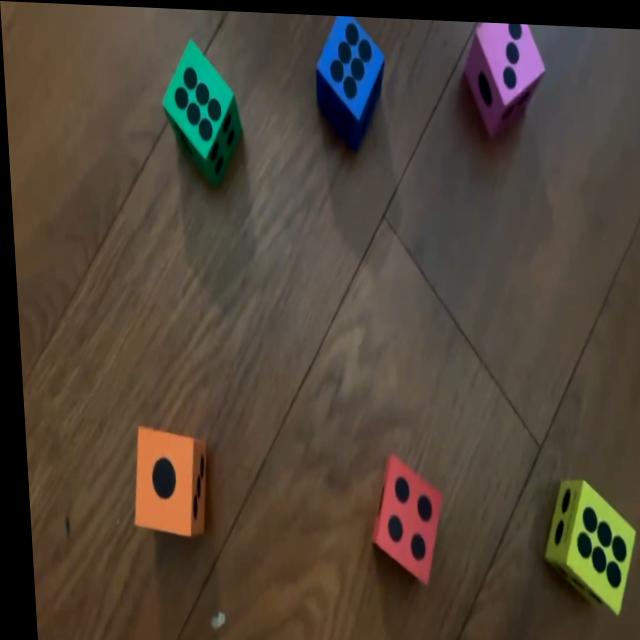cube: (159, 34, 241, 177), (361, 449, 440, 580), (313, 11, 389, 139)
